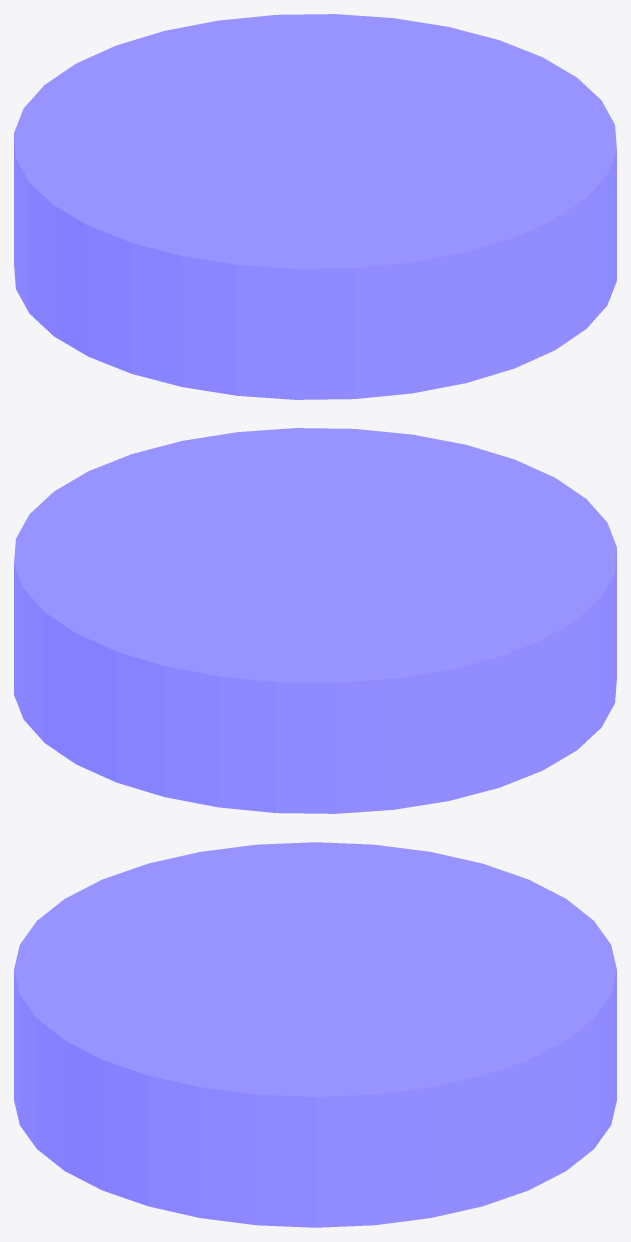
File: button.fbx
3 renders of one model, top to bottom at view 1: azimuth 30°, elevation 25°; view 2: azimuth 150°, elevation 25°; view 3: azimuth 270°, elevation 25°, orthographic.
Visible parts, largest first — view 1: Circle; view 2: Circle; view 3: Circle.
Part boxes in pixels (x1,y1,x2,y2): Circle: [14, 14, 616, 399]; Circle: [14, 428, 616, 813]; Circle: [14, 842, 616, 1227].
Bounding box in the file's own units: 200 × 47.85 × 200.
